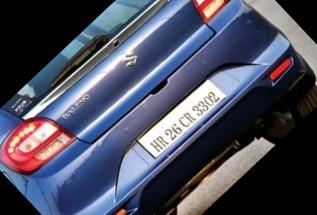plate: (121, 53, 251, 180)
